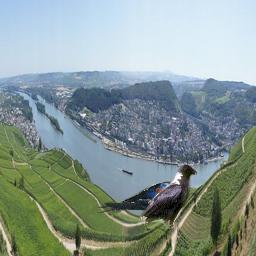Crow: (138, 162, 198, 229)
Swallow: (96, 181, 178, 213)
